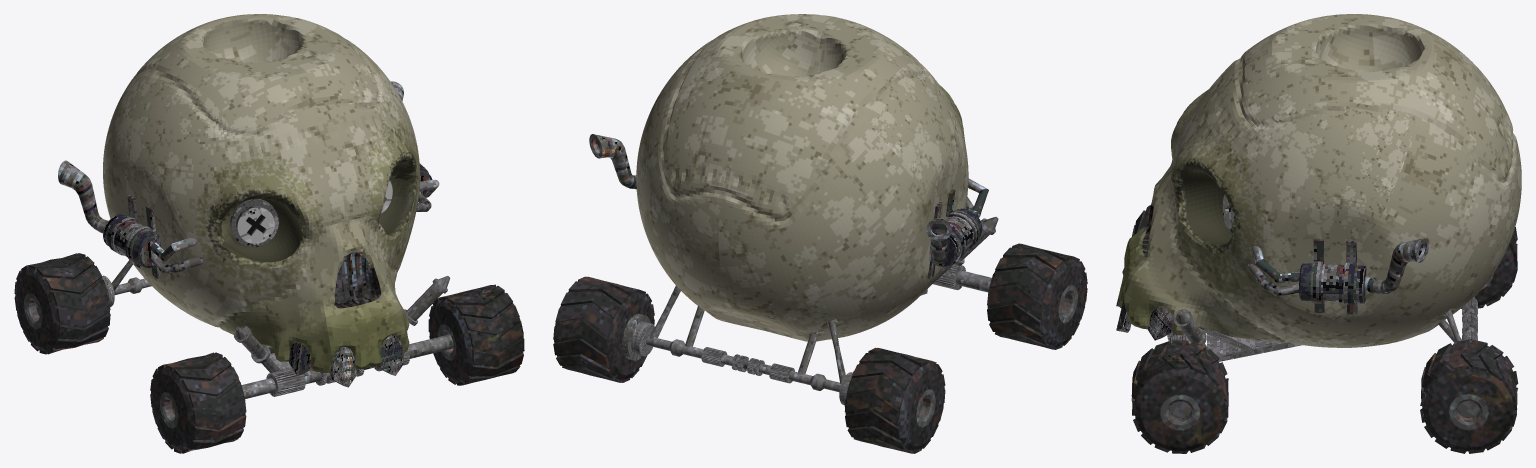
File: enemy_applied_transformation.fbx
3 renders of one model, left to right at view 1: azimuth 30°, elevation 25°; view 2: azimuth 150°, elevation 25°; view 3: azimuth 270°, elevation 25°, orthographic. The views are drawn at different scales.
Parts seen in each view (by area): view 1: hoved, Hjul_f2, hjul_b2, hjul_f1, bund, udstødning, Cube.002, øje2, udstødning.001; view 2: hoved, Hjul_f2, hjul_b2, hjul_b1, bund, udstødning, udstødning.001; view 3: hoved, hjul_f1, hjul_b1, udstødning.001, bund, hjul_b2, Cube.002.
Part boxes in pixels (box(x1,y1,x2,y2)): hoved: box(103, 14, 419, 372); Hjul_f2: box(150, 352, 246, 453); hjul_b2: box(14, 253, 110, 354); hjul_f1: box(428, 284, 524, 385); bund: box(102, 260, 453, 398); udstødning: box(58, 160, 202, 278); Cube.002: box(289, 335, 408, 387); øje2: box(230, 199, 278, 247); udstødning.001: box(390, 81, 439, 211); hoved: box(636, 14, 968, 341); Hjul_f2: box(987, 243, 1087, 349); hjul_b2: box(844, 347, 945, 453); hjul_b1: box(553, 276, 654, 382); bund: box(622, 217, 998, 406); udstødning: box(926, 178, 988, 279); udstødning.001: box(589, 134, 636, 189); hoved: box(1119, 14, 1521, 347); hjul_f1: box(1131, 340, 1228, 453); hjul_b1: box(1420, 339, 1518, 453); udstødning.001: box(1247, 238, 1429, 314); bund: box(1167, 273, 1493, 361); hjul_b2: box(1461, 227, 1517, 308); Cube.002: box(1116, 284, 1172, 340).
Size of the model in its own units: 325 by 273 by 310.
11 materials, 11 textured.
